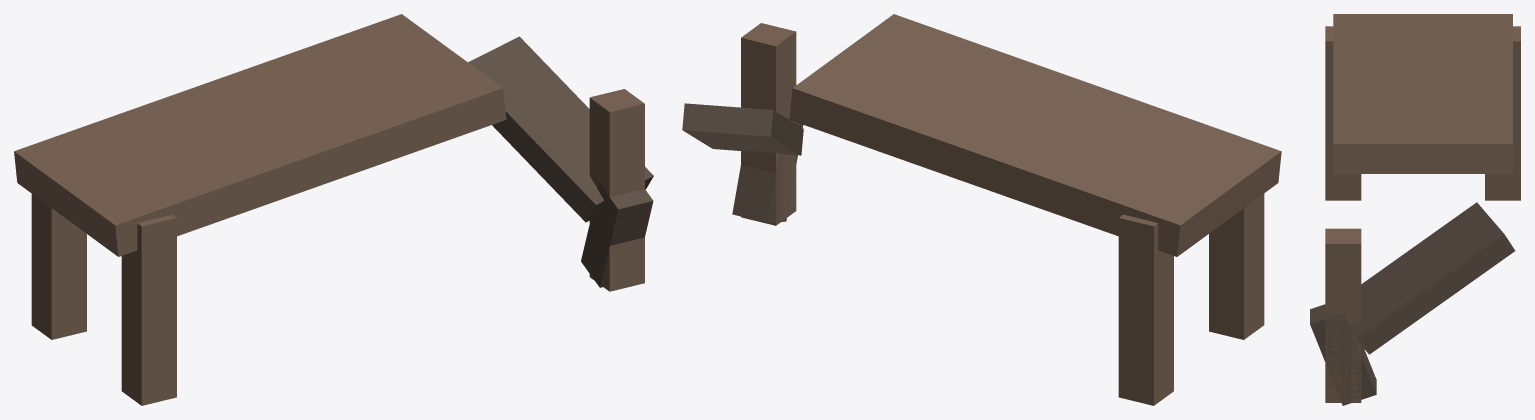
Rendered from prop_bench_kowareta.glb.
3 renders of one model, left to right at view 1: azimuth 30°, elevation 25°; view 2: azimuth 150°, elevation 25°; view 3: azimuth 270°, elevation 25°, orthographic. The views are drawn at different scales.
Parts seen in each view (by area): view 1: bench_kowareta; view 2: bench_kowareta; view 3: bench_kowareta.
Part boxes in pixels (x1=…): bench_kowareta: x1=14, y1=14, x2=653, y2=405; bench_kowareta: x1=682, y1=14, x2=1281, y2=405; bench_kowareta: x1=1310, y1=14, x2=1520, y2=405.
Size of the model in its own units: 1.42 by 0.5602 by 0.5283.
